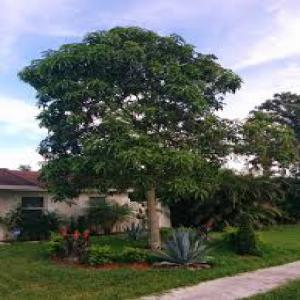Tree: (17, 23, 244, 254)
